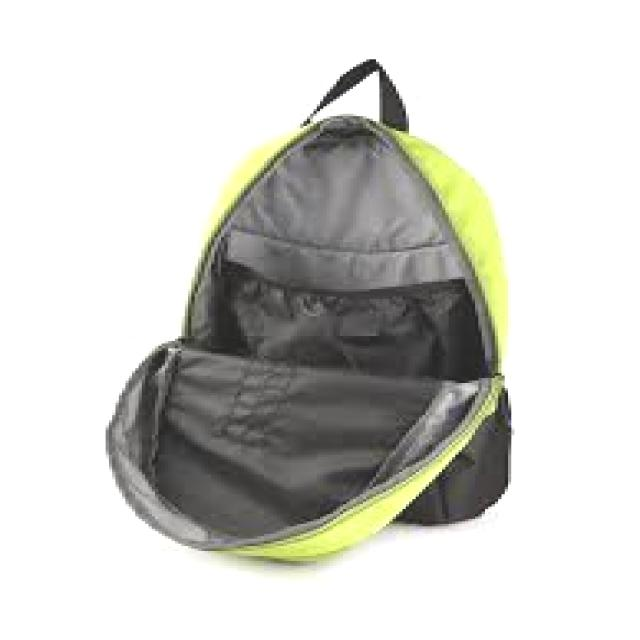backpack: (104, 58, 516, 562)
